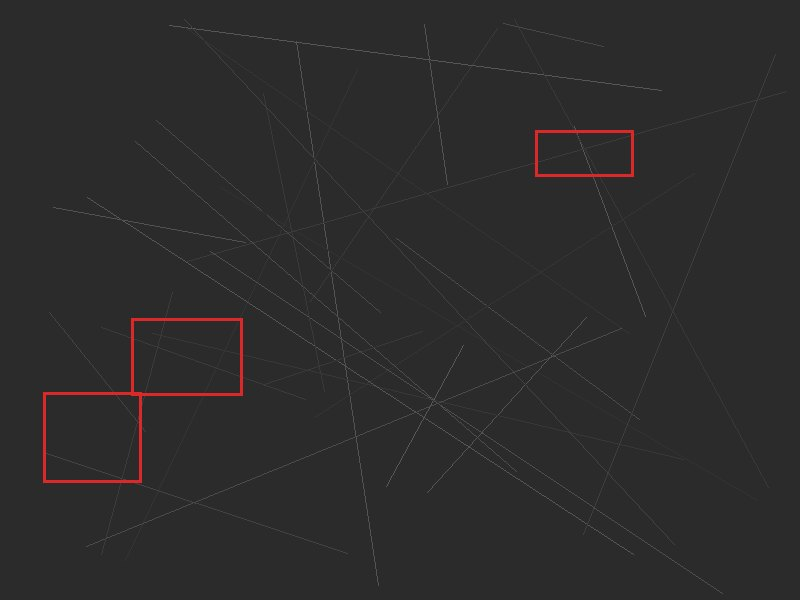D00: (131, 318, 242, 395)
D40: (43, 392, 141, 482), (535, 130, 633, 176)
